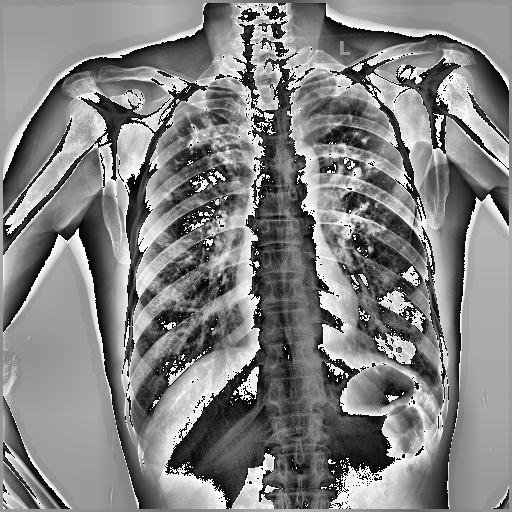13- Pulmonary fibrosis: (306, 68, 389, 252), (150, 80, 232, 238), (154, 122, 232, 278), (160, 110, 232, 247), (320, 118, 380, 260), (322, 128, 386, 254), (430, 384, 444, 391)
2- Calcification: (306, 68, 389, 252), (150, 80, 232, 238), (154, 122, 232, 278), (160, 110, 232, 247), (320, 118, 380, 260), (322, 128, 386, 254)
8- Nodule-Mass: (374, 318, 388, 333), (396, 347, 402, 352)
